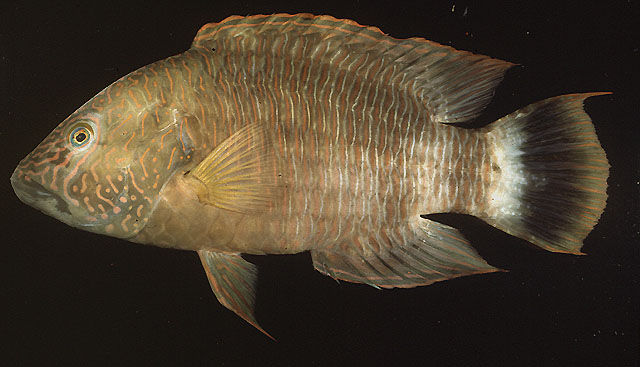fish: (14, 14, 613, 341)
